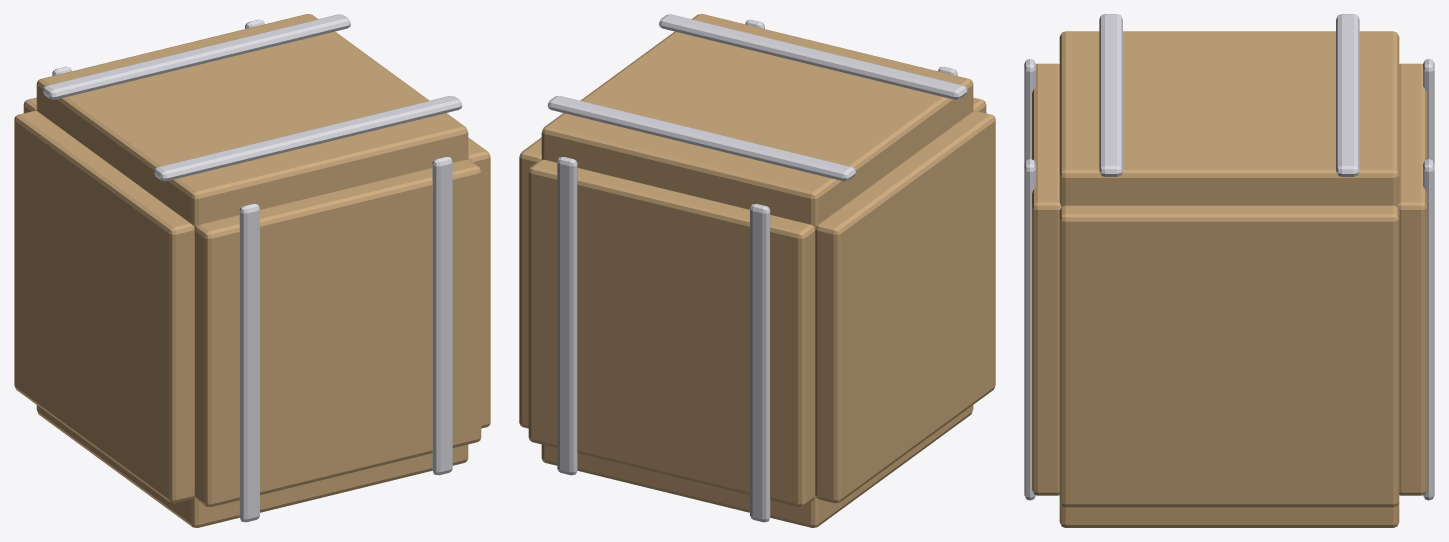
Rendered from SM_WoodenCrate_01.fbx.
3 renders of one model, left to right at view 1: azimuth 30°, elevation 25°; view 2: azimuth 150°, elevation 25°; view 3: azimuth 270°, elevation 25°, orthographic. The views are drawn at different scales.
Visible parts, largest first — view 1: SM_WoodenCrate_01; view 2: SM_WoodenCrate_01; view 3: SM_WoodenCrate_01.
Part boxes in pixels (x1=…): SM_WoodenCrate_01: x1=14, y1=14, x2=490, y2=527; SM_WoodenCrate_01: x1=519, y1=14, x2=995, y2=527; SM_WoodenCrate_01: x1=1024, y1=14, x2=1434, y2=527.
Bounding box in the file's own units: 100 × 103 × 104.
